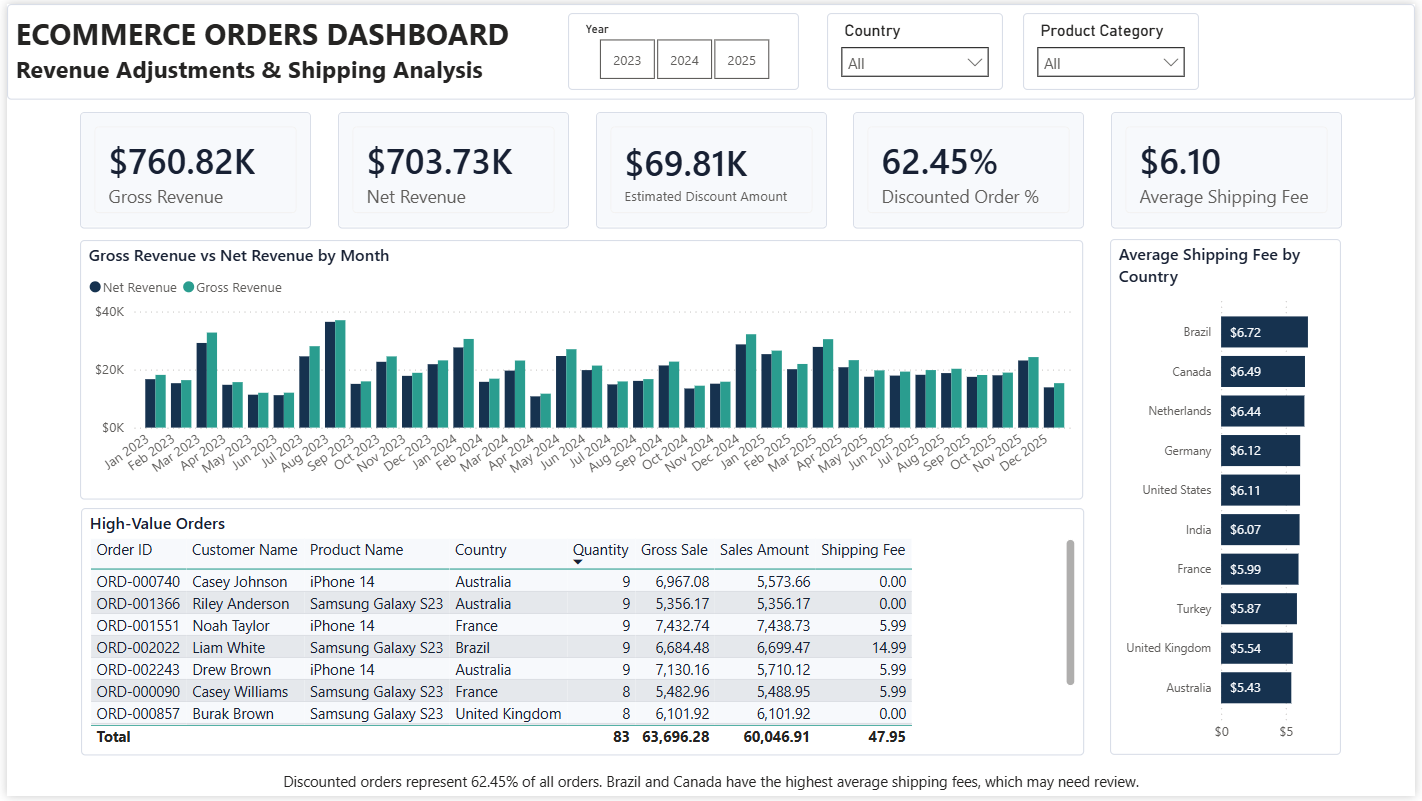

The page's visual inventory and layout, read from the dashboard file:
{"tool":"powerbi","page":{"name":"3-Revenue Adjustments & Shipping","canvas":[1280,720],"ordinal":2},"visuals":[{"type":"textbox","box":[0,0,1280,86.7],"z":0},{"type":"cardVisual","fields":{"Data":["Measures...Gross Revenue"]},"box":[66.7,97.8,210,105.6],"z":1000},{"type":"clusteredColumnChart","title":" Gross Revenue vs Net Revenue by Month","fields":{"Category":["Date Table.Month Year"],"Y":["Measures...Total Revenue","Measures...Gross Revenue"]},"box":[66.7,214.4,912.2,235.6],"z":2000},{"type":"cardVisual","fields":{"Data":["Measures...Total Revenue"]},"box":[300.8,97.8,210,105.6],"z":3000},{"type":"cardVisual","fields":{"Data":["Measures...Estimated Discount Amount"]},"box":[535,97.8,210,105.6],"z":4000},{"type":"clusteredBarChart","title":"Average Shipping Fee by Country","fields":{"Category":["ecommerce_clean.country"],"Y":["Measures...Average Shipping Fee"]},"box":[1003,214,210,469],"z":5000},{"type":"cardVisual","fields":{"Data":["Measures...Discounted Order %"]},"box":[769.2,97.8,210,105.6],"z":6000},{"type":"tableEx","title":"High-Value Orders","fields":{"Values":["ecommerce_clean.order_id","ecommerce_clean.customer_name","ecommerce_clean.product_name","ecommerce_clean.country","Sum(ecommerce_clean.quantity)","Sum(ecommerce_clean.gross_sales)","Sum(ecommerce_clean.sales_amount)","Sum(ecommerce_clean.shipping_fee)"]},"box":[67,458,912,225],"z":7000},{"type":"cardVisual","fields":{"Data":["Measures...Average Shipping Fee"]},"box":[1003.3,97.8,210,105.6],"z":8000},{"type":"slicer","fields":{"Values":["Date Table.Year"]},"box":[510,7.8,210,70],"z":9000},{"type":"slicer","fields":{"Values":["ecommerce_clean.country"]},"box":[745.6,7.8,160,70],"z":10000},{"type":"slicer","fields":{"Values":["ecommerce_clean.product_category"]},"box":[923.3,7.8,160,70],"z":11000},{"type":"textbox","box":[0,693,1280,27],"z":12000}]}

Visuals, with their boxes in screenshot pixels (x1, y1, x2, y2), scaled from the page's 1280x720 canvas onto the 1422x801 screenshot:
textbox: {"x1": 0, "y1": 0, "x2": 1421, "y2": 96}
cardVisual - Measures...Gross Revenue: {"x1": 74, "y1": 109, "x2": 307, "y2": 226}
" Gross Revenue vs Net Revenue by Month" clusteredColumnChart: {"x1": 74, "y1": 239, "x2": 1087, "y2": 501}
cardVisual - Measures...Total Revenue: {"x1": 334, "y1": 109, "x2": 567, "y2": 226}
cardVisual - Measures...Estimated Discount Amount: {"x1": 594, "y1": 109, "x2": 828, "y2": 226}
"Average Shipping Fee by Country" clusteredBarChart: {"x1": 1114, "y1": 238, "x2": 1348, "y2": 760}
cardVisual - Measures...Discounted Order %: {"x1": 855, "y1": 109, "x2": 1088, "y2": 226}
"High-Value Orders" tableEx: {"x1": 74, "y1": 510, "x2": 1088, "y2": 760}
cardVisual - Measures...Average Shipping Fee: {"x1": 1115, "y1": 109, "x2": 1348, "y2": 226}
slicer - Date Table.Year: {"x1": 567, "y1": 9, "x2": 800, "y2": 87}
slicer - ecommerce_clean.country: {"x1": 828, "y1": 9, "x2": 1006, "y2": 87}
slicer - ecommerce_clean.product_category: {"x1": 1026, "y1": 9, "x2": 1203, "y2": 87}
textbox: {"x1": 0, "y1": 771, "x2": 1421, "y2": 800}
